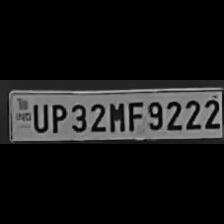2: (163, 98, 181, 132), (182, 97, 200, 131), (201, 96, 219, 130), (88, 100, 106, 132)
3: (68, 100, 86, 134)
9: (144, 98, 162, 132)
F: (125, 98, 143, 132)
M: (107, 100, 125, 132)
P: (47, 100, 66, 134)
U: (28, 100, 48, 132)
